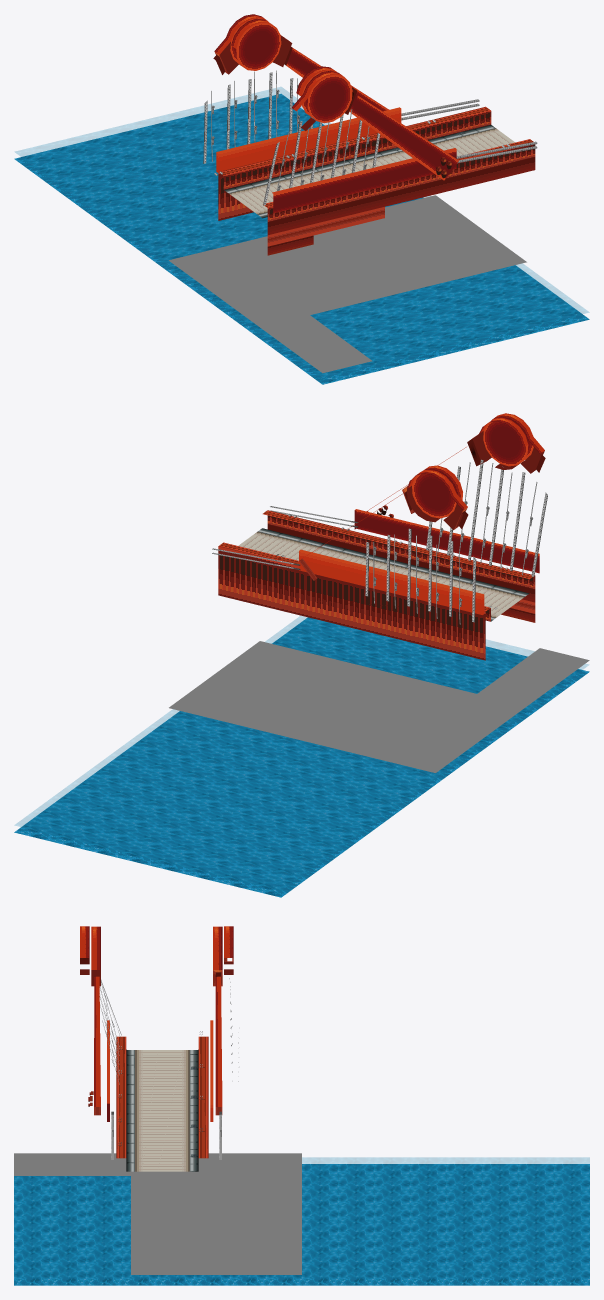
3 views of the same model, one above another, from view 1: azimuth 30°, elevation 25°; view 2: azimuth 150°, elevation 25°; view 3: azimuth 270°, elevation 25° (orthographic). The views are drawn at different scales.
Parts seen in each view (by area): view 1: polygon9, polygon10, polygon11, polygon6, polygon2, polygon12, polygon8, polygon4, polygon0, polygon3, polygon7, polygon1; view 2: polygon9, polygon10, polygon11, polygon6, polygon2, polygon12, polygon8, polygon4, polygon1, polygon0, polygon3, polygon7; view 3: polygon9, polygon10, polygon11, polygon12, polygon0, polygon6, polygon1, polygon4.
Boxes of the visible parts, x1=… form: polygon9: x1=14, y1=93, x2=589, y2=384; polygon10: x1=15, y1=87, x2=588, y2=376; polygon11: x1=169, y1=195, x2=526, y2=373; polygon6: x1=218, y1=106, x2=535, y2=255; polygon2: x1=230, y1=18, x2=458, y2=213; polygon12: x1=224, y1=125, x2=515, y2=218; polygon8: x1=216, y1=107, x2=401, y2=172; polygon4: x1=203, y1=72, x2=510, y2=205; polygon0: x1=214, y1=14, x2=455, y2=158; polygon3: x1=211, y1=70, x2=370, y2=191; polygon7: x1=401, y1=99, x2=537, y2=163; polygon1: x1=213, y1=35, x2=357, y2=130; polygon9: x1=14, y1=617, x2=589, y2=897; polygon10: x1=15, y1=616, x2=588, y2=889; polygon11: x1=169, y1=641, x2=589, y2=772; polygon6: x1=218, y1=508, x2=535, y2=660; polygon2: x1=355, y1=417, x2=539, y2=573; polygon12: x1=238, y1=528, x2=529, y2=621; polygon8: x1=299, y1=510, x2=484, y2=614; polygon4: x1=276, y1=459, x2=547, y2=622; polygon1: x1=299, y1=431, x2=545, y2=580; polygon0: x1=302, y1=413, x2=544, y2=558; polygon3: x1=373, y1=462, x2=537, y2=624; polygon7: x1=212, y1=506, x2=358, y2=569; polygon9: x1=14, y1=1164, x2=589, y2=1285; polygon10: x1=14, y1=1157, x2=589, y2=1278; polygon11: x1=14, y1=1153, x2=301, y2=1274; polygon12: x1=126, y1=1049, x2=198, y2=1171; polygon0: x1=80, y1=926, x2=233, y2=1106; polygon6: x1=116, y1=1036, x2=208, y2=1158; polygon1: x1=80, y1=958, x2=233, y2=1115; polygon4: x1=99, y1=978, x2=232, y2=1145.
Bounding box in the file's own units: 4.17 × 3.91 × 8.
